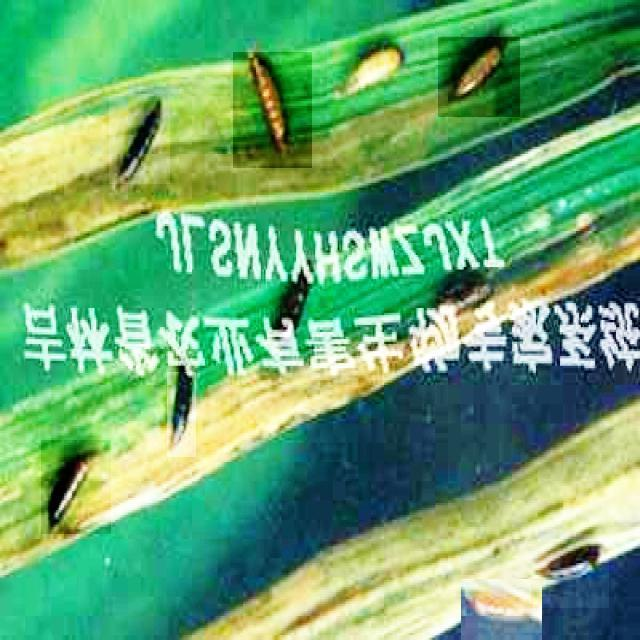whorl-maggot: (233, 52, 312, 168), (41, 440, 111, 534), (438, 37, 520, 117), (327, 42, 419, 108), (531, 534, 609, 608), (109, 95, 170, 185), (461, 579, 542, 640), (167, 372, 196, 457)
